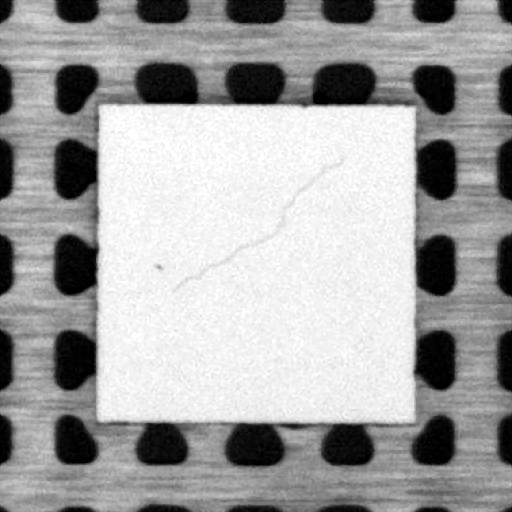DIE_INK: (150, 261, 162, 274)
